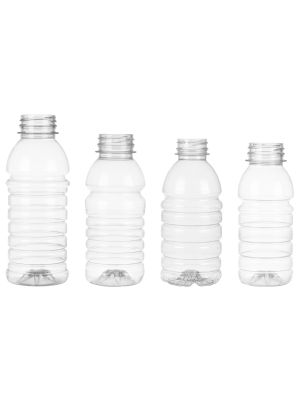plastic_bottle: (2, 112, 76, 289), (82, 127, 152, 290), (160, 132, 226, 292), (234, 135, 300, 288)
